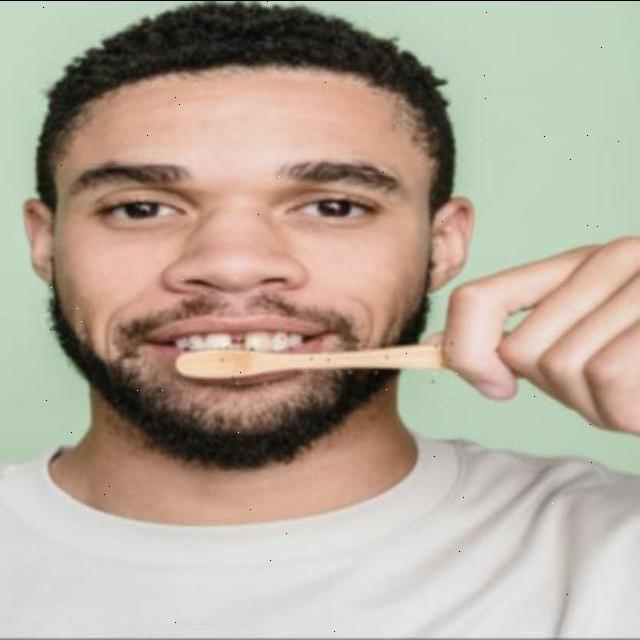toothbrush: (164, 336, 453, 384)
